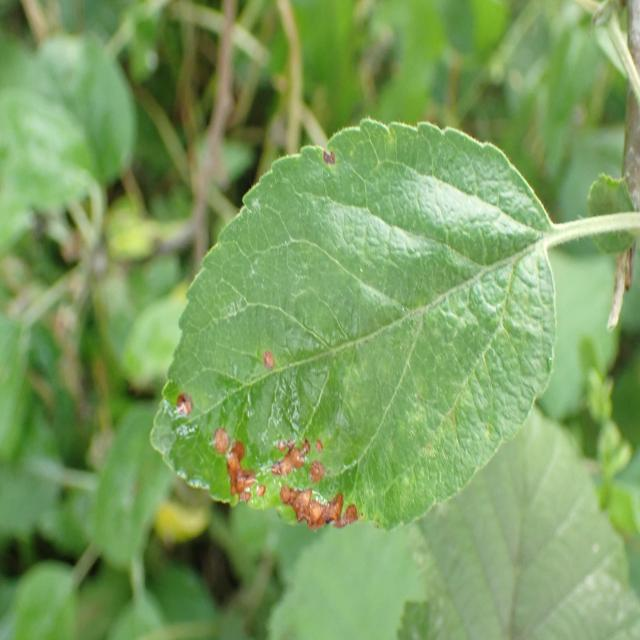frog-eye-leaf-spot: (148, 116, 558, 531)
